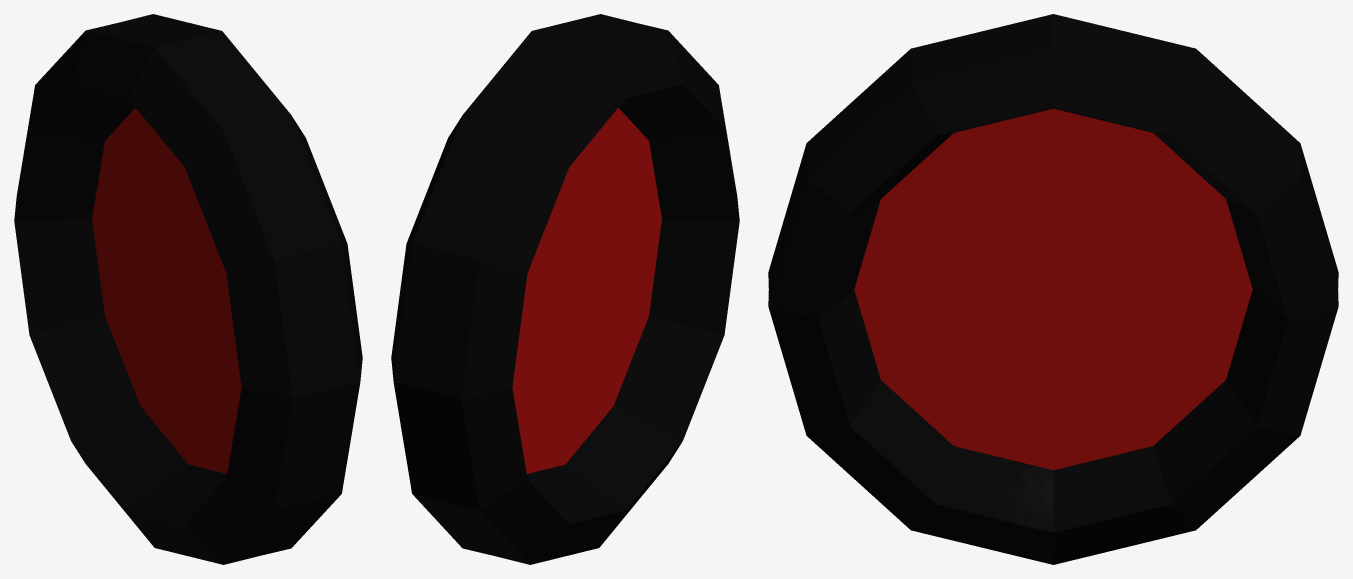
Rendered from ProtoBichaelWheel.glb.
The picture shows the model from 3 angles, left to right: view 1: azimuth 30°, elevation 25°; view 2: azimuth 150°, elevation 25°; view 3: azimuth 270°, elevation 25°; orthographic projection. The views are drawn at different scales.
Parts seen in each view (by area): view 1: Bichael; view 2: Bichael; view 3: Bichael.
Part boxes in pixels (x1,y1,x2,y2): Bichael: (14,14,362,564); Bichael: (391,14,739,564); Bichael: (768,14,1338,564).
Bounding box in the file's own units: 0.5381 × 2.12 × 2.12.
2 materials, 2 textured.
